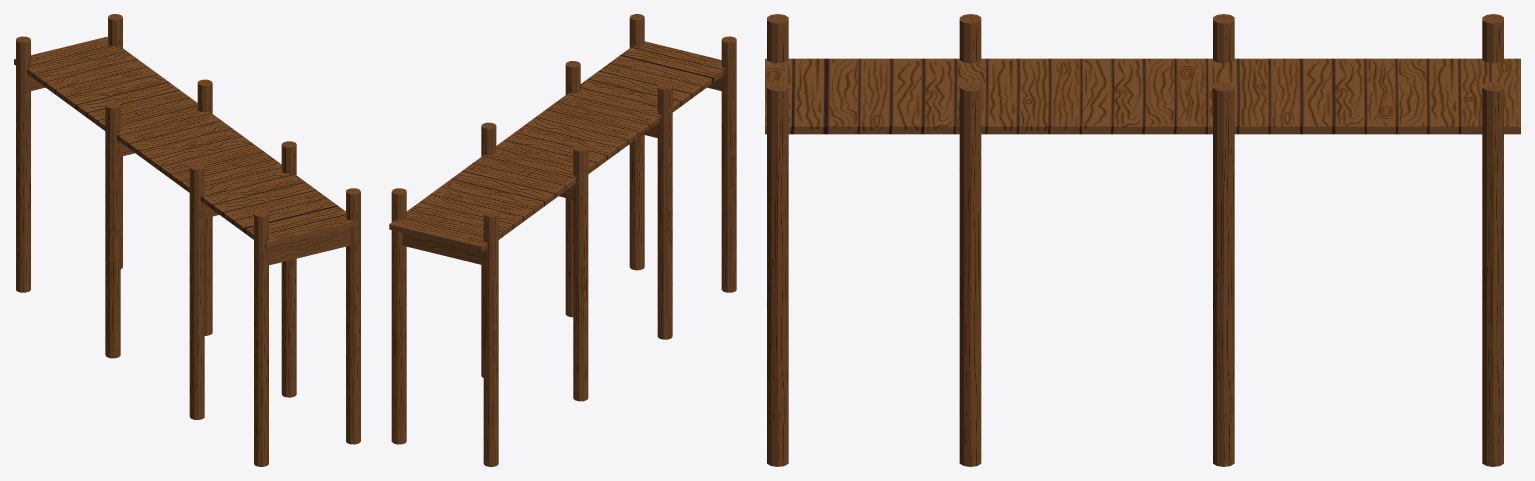
Rendered from Dock.fbx.
3 renders of one model, left to right at view 1: azimuth 30°, elevation 25°; view 2: azimuth 150°, elevation 25°; view 3: azimuth 270°, elevation 25°, orthographic. The views are drawn at different scales.
Parts seen in each view (by area): view 1: Planks, Trestle04, Trestle03, Trestle02, Trestle01; view 2: Planks, Trestle01, Trestle04, Trestle03, Trestle02; view 3: Planks, Trestle03, Trestle01, Trestle02, Trestle04.
Boxes of the visible parts, box(x1,y1,x2,y2) form: Planks: box(14, 36, 358, 248); Trestle04: box(254, 188, 360, 466); Trestle03: box(189, 141, 296, 419); Trestle02: box(105, 79, 212, 358); Trestle01: box(16, 14, 122, 292); Planks: box(389, 41, 725, 251); Trestle01: box(391, 188, 498, 466); Trestle04: box(629, 14, 736, 292); Trestle03: box(565, 61, 672, 339); Trestle02: box(481, 122, 588, 401); Planks: box(765, 58, 1520, 134); Trestle03: box(959, 14, 981, 466); Trestle01: box(1482, 14, 1503, 466); Trestle02: box(1213, 14, 1234, 466); Trestle04: box(767, 14, 788, 466).
Bounding box in the file's own units: 9.71 × 22.08 × 40.25.
2 materials, 2 textured.
